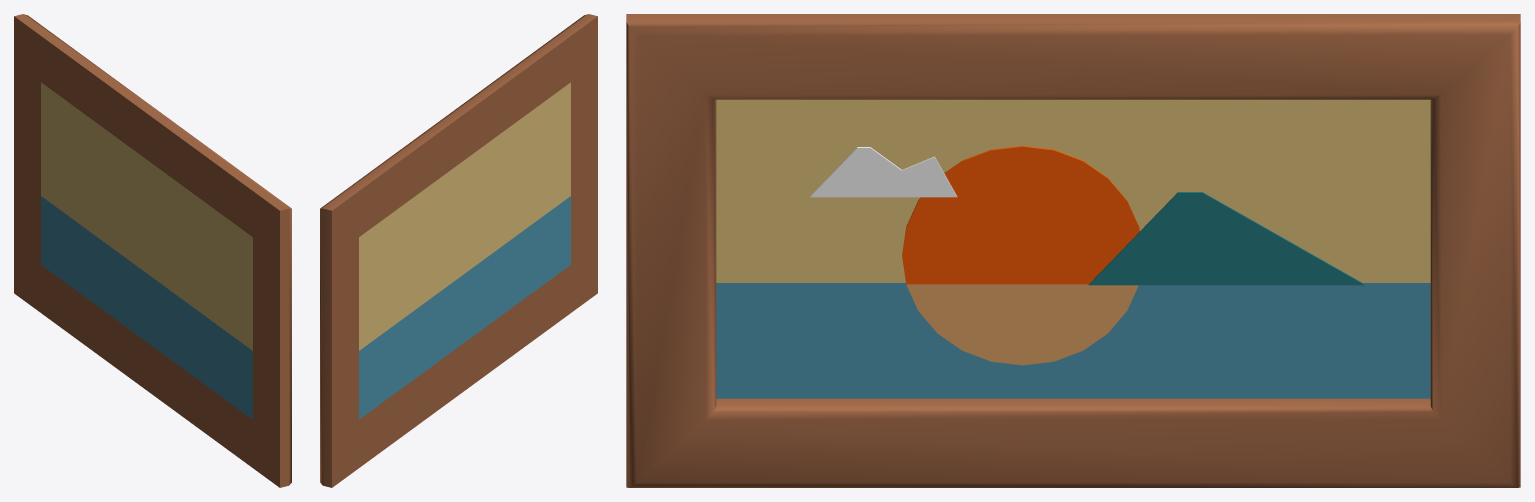
Rendered from 03_Draw 1.fbx.
The picture shows the model from 3 angles, left to right: view 1: azimuth 30°, elevation 25°; view 2: azimuth 150°, elevation 25°; view 3: azimuth 270°, elevation 25°; orthographic projection. The views are drawn at different scales.
Parts seen in each view (by area): view 1: Cube.111; view 2: Cube.111; view 3: Cube.111, Circle.046, Plane.020, Plane.021.
Part boxes in pixels (<box>): Cube.111: <box>14,14,291,487</box>; Cube.111: <box>320,14,597,487</box>; Cube.111: <box>626,14,1520,487</box>; Circle.046: <box>902,146,1139,365</box>; Plane.020: <box>1088,192,1364,285</box>; Plane.021: <box>809,147,957,197</box>.
Size of the model in its own units: 1.35 by 24.71 by 42.96.
